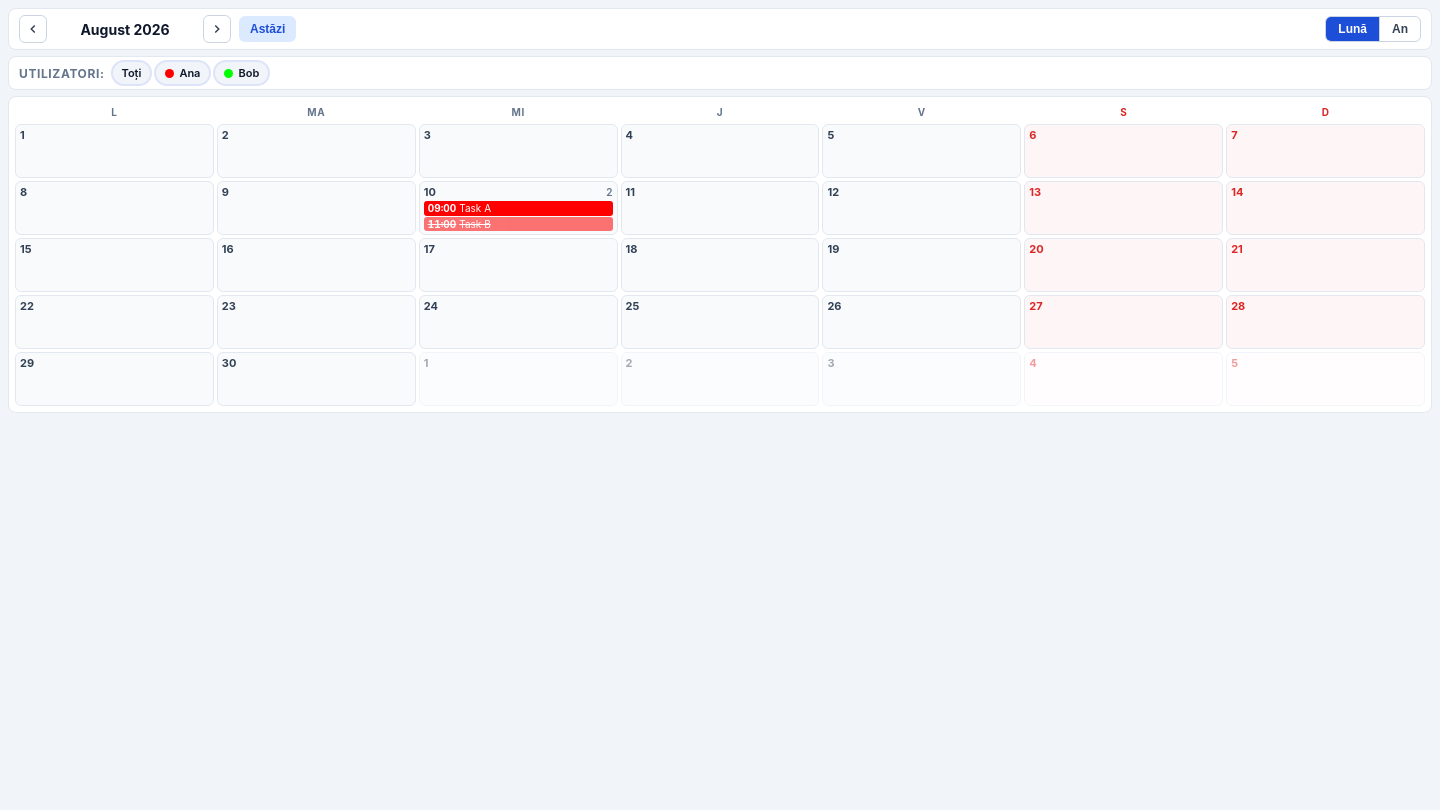
Test: CalendarView.vue › opens the day modal with tasks grouped by user
The width and height of the screenshot is (1440, 810).
// Click the day cell that holds the seeded tasks.
Click the element with class "cal-day" showing "10 2 09:00 Task A 11:00 Task B" at coordinates (518, 208), box [419,181,618,235]
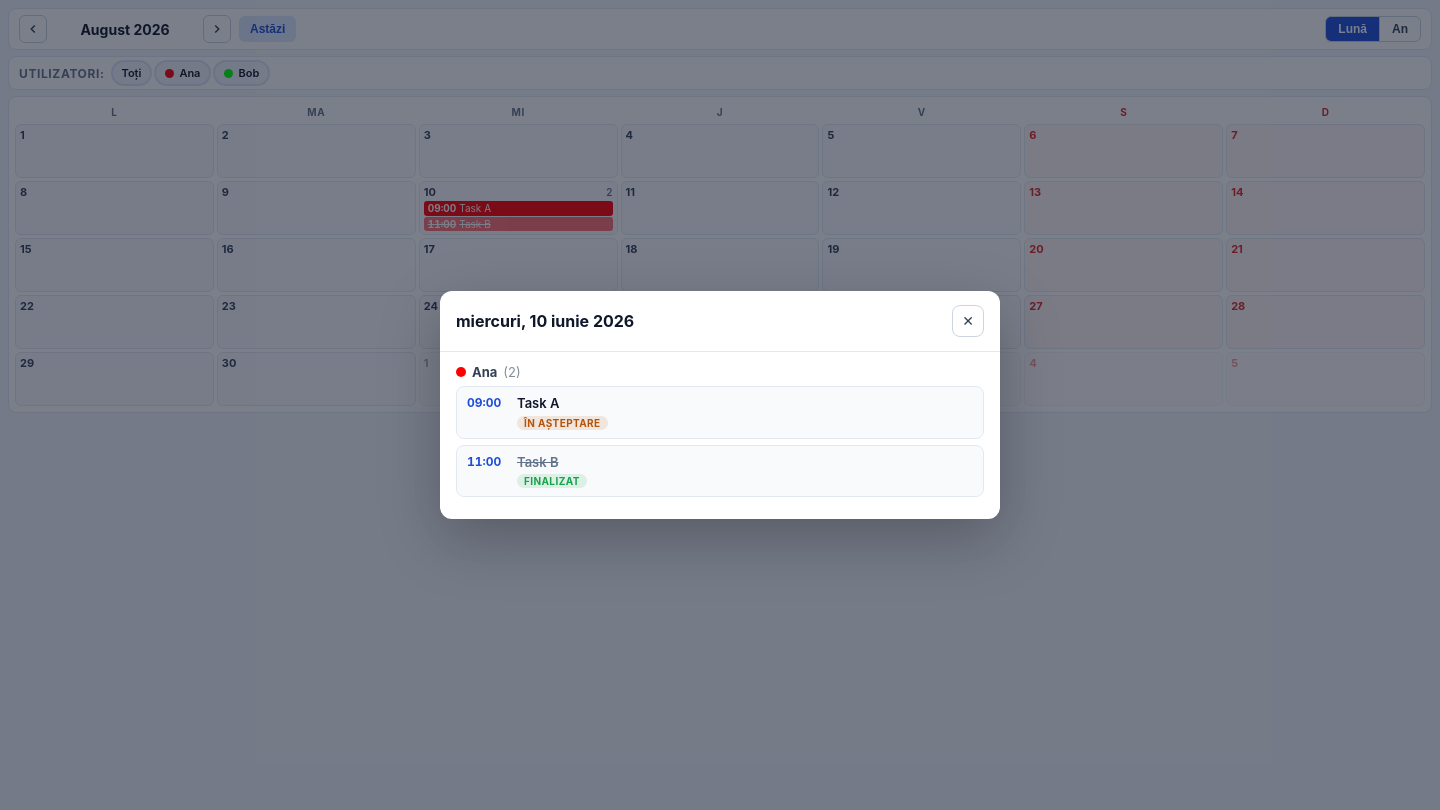
Expected: the dialog with class "cal-modal" is shown, [440,291,1000,519]
Expected: the number of elements with class "cal-modal-task" is 2, [456,386,984,438]; [456,444,984,497]
Expected: the element with class "cal-modal-user-head" shows "Ana", [472,364,497,380]
